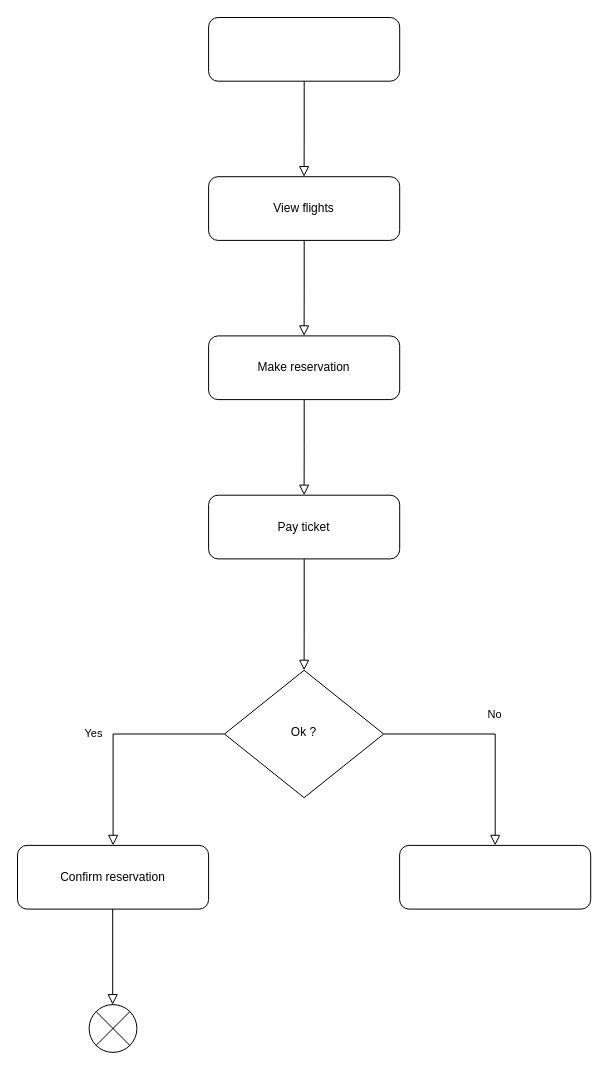
This 609x1070 diagram has some shape labels left out. The centre of each missing label's shape, as x and y in pixels:
"Cancel reservation" goes at (x=495, y=876).
"Offers seats" goes at (x=304, y=48).
